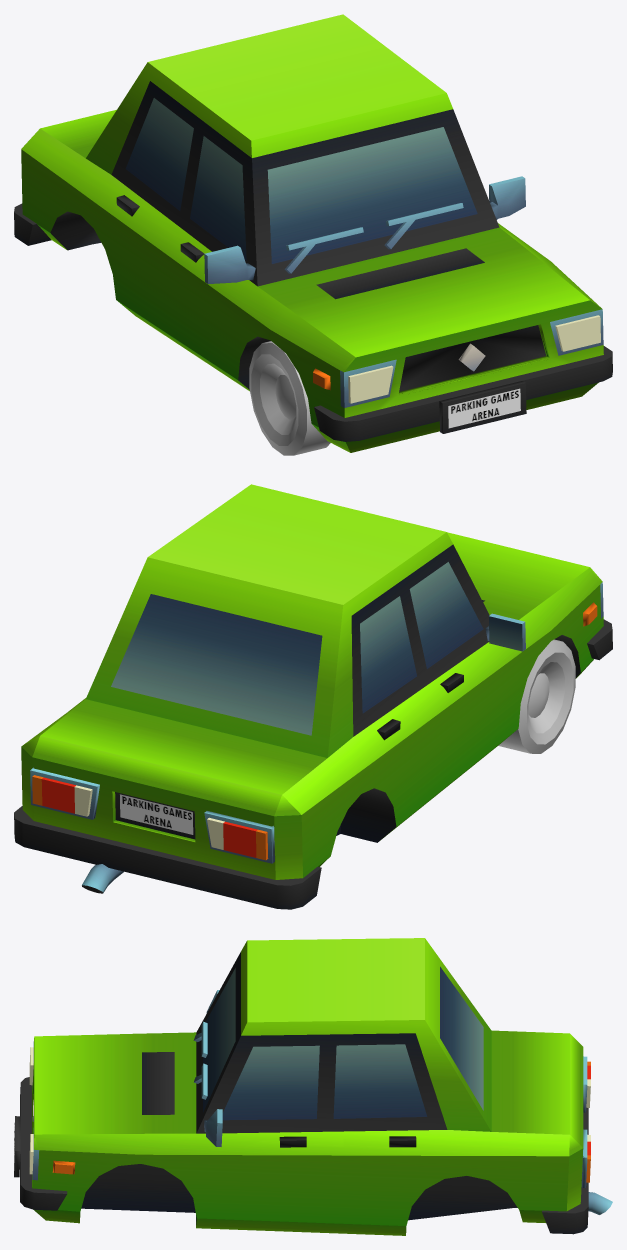
Rendered from tyre.fbx.
3 views of the same model, one above another, from view 1: azimuth 30°, elevation 25°; view 2: azimuth 150°, elevation 25°; view 3: azimuth 270°, elevation 25° (orthographic). The views are drawn at different scales.
Visible parts, largest first — view 1: SHTV_Model_Car_Sedan, SHTV_Model_Wheel_Sedan_FL; view 2: SHTV_Model_Car_Sedan, SHTV_Model_Wheel_Sedan_FL; view 3: SHTV_Model_Car_Sedan.
Boxes of the visible parts, left/top/right/bottom form: SHTV_Model_Car_Sedan: left=14, top=14, right=612, bottom=452; SHTV_Model_Wheel_Sedan_FL: left=249, top=341, right=330, bottom=455; SHTV_Model_Car_Sedan: left=14, top=484, right=612, bottom=909; SHTV_Model_Wheel_Sedan_FL: left=498, top=639, right=575, bottom=753; SHTV_Model_Car_Sedan: left=14, top=938, right=612, bottom=1235.
Bounding box in the file's own units: 197 × 153 × 375.
